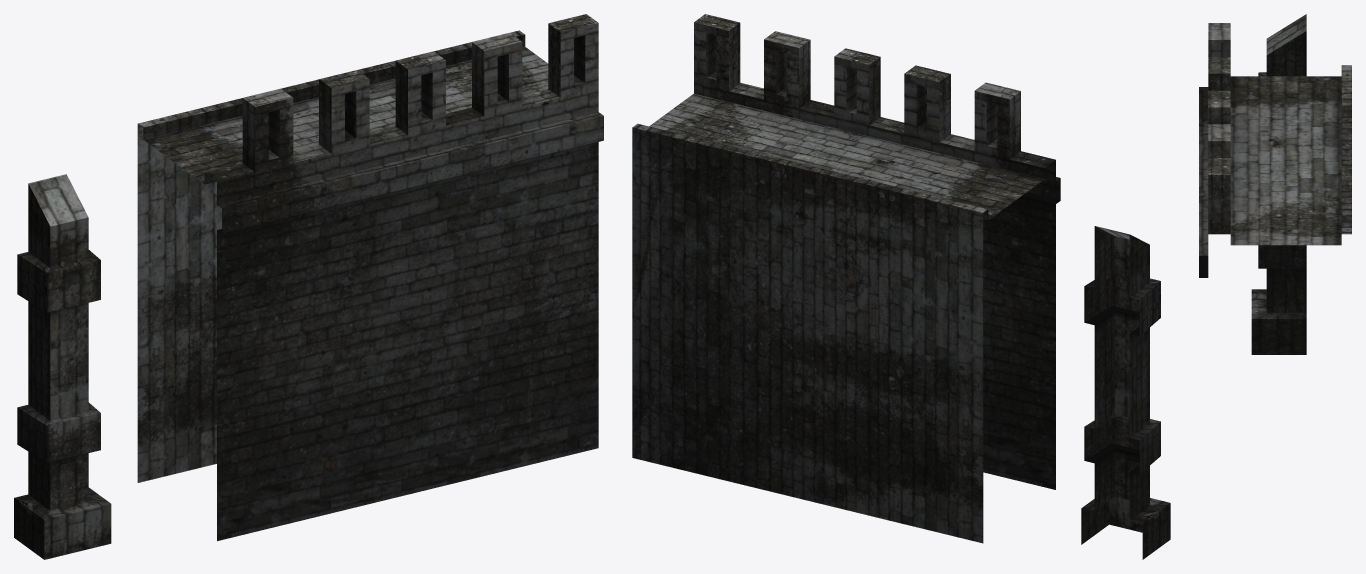
Rendered from Wall.fbx.
3 views of the same model, side by side, from view 1: azimuth 30°, elevation 25°; view 2: azimuth 150°, elevation 25°; view 3: azimuth 270°, elevation 25° (orthographic). The views are drawn at different scales.
Parts seen in each view (by area): view 1: Wall, Column; view 2: Wall, Column; view 3: Wall, Column.
Part boxes in pixels (<box>): Wall: <box>137,14,603,541</box>; Column: <box>14,174,111,559</box>; Wall: <box>632,14,1060,543</box>; Column: <box>1081,226,1170,559</box>; Wall: <box>1199,23,1351,277</box>; Column: <box>1251,14,1306,354</box>.
Size of the model in its own units: 278 by 76.6 by 213.
